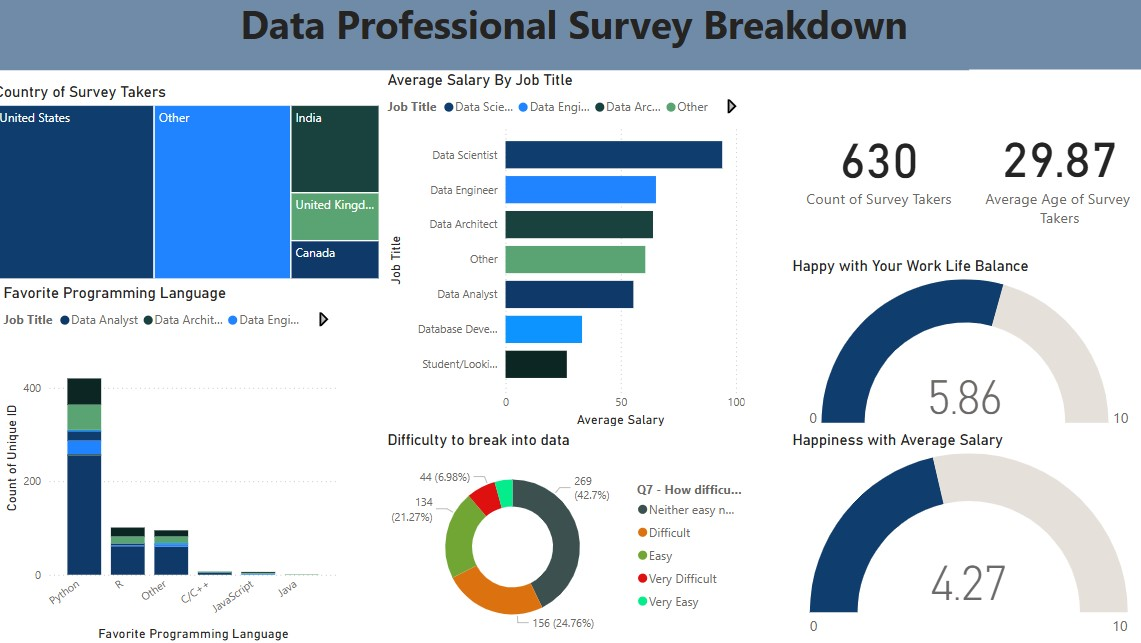

The dashboard page shown, as its layout file describes it:
{"tool":"powerbi","page":{"name":"Page 1","canvas":[1280,720],"ordinal":0},"visuals":[{"type":"textbox","box":[9.4,0,1269.9,85],"z":0},{"type":"card","fields":{"Values":["Count(Data Professional Survey.Unique ID)"]},"box":[880.6,86.9,200.3,204.1],"z":1000},{"type":"card","fields":{"Values":["Avg(Data Professional Survey.Q10 - Current Age)"]},"box":[1081,85,198.4,206],"z":2000},{"type":"barChart","title":"Average Salary By Job Title","fields":{"Category":["Data Professional Survey.Q1 - Which Title Best Fits your Current Role?.1"],"Y":["Avg(Data Professional Survey.Average Salary)"],"Series":["Data Professional Survey.Q1 - Which Title Best Fits your Current Role?.1"]},"box":[434.6,86.9,404.4,396.9],"z":3000},{"type":"columnChart","title":"Favorite Programming Language","fields":{"Category":["Data Professional Survey.Q5 - Favorite Programming Language.1"],"Y":["CountNonNull(Data Professional Survey.Unique ID)"],"Series":["Data Professional Survey.Q1 - Which Title Best Fits your Current Role?.1"]},"box":[9.4,321.3,378,398.7],"z":4000},{"type":"gauge","title":"Happy with Your Work Life Balance","fields":{"Y":["Avg(Data Professional Survey.Q6 - How Happy are you in your Current Position with the following? (Coworkers))"],"MinValue":["Min(Data Professional Survey.Q6 - How Happy are you in your Current Position with the following? (Coworkers))"],"MaxValue":["Max(Data Professional Survey.Q6 - How Happy are you in your Current Position with the following? (Coworkers))"]},"box":[880.6,291,398.7,192.8],"z":5000},{"type":"gauge","title":"Happiness with Average Salary","fields":{"Y":["Avg(Data Professional Survey.Q6 - How Happy are you in your Current Position with the following? (Salary))"],"MinValue":["Min(Data Professional Survey.Q6 - How Happy are you in your Current Position with the following? (Salary))"],"MaxValue":["Max(Data Professional Survey.Q6 - How Happy are you in your Current Position with the following? (Salary))"]},"box":[880.6,483.8,398.7,236.2],"z":6000},{"type":"donutChart","title":"Difficulty to break into data","fields":{"Category":["Data Professional Survey.Q7 - How difficult was it for you to break into Data?"],"Y":["CountNonNull(Data Professional Survey.Q7 - How difficult was it for you to break into Data?)"]},"box":[434.6,483.8,404.4,236.2],"z":6001},{"type":"treemap","title":"Country of Survey Takers","fields":{"Group":["Data Professional Survey.Q11 - Which Country do you live in?.1"],"Values":["CountNonNull(Data Professional Survey.Q11 - Which Country do you live in?.1)"]},"box":[0,100.2,434.6,221.1],"z":6002}]}

Visuals, with their boxes in screenshot pixels (x1, y1, x2, y2), scaled from the page's 1280x720 canvas onto the 1141x643 screenshot:
textbox: <bbox>8, 0, 1140, 76</bbox>
card - Count(Data Professional Survey.Unique ID): <bbox>785, 78, 964, 260</bbox>
card - Avg(Data Professional Survey.Q10 - Current Age): <bbox>964, 76, 1140, 260</bbox>
"Average Salary By Job Title" barChart: <bbox>387, 78, 748, 432</bbox>
"Favorite Programming Language" columnChart: <bbox>8, 287, 345, 642</bbox>
"Happy with Your Work Life Balance" gauge: <bbox>785, 260, 1140, 432</bbox>
"Happiness with Average Salary" gauge: <bbox>785, 432, 1140, 642</bbox>
"Difficulty to break into data" donutChart: <bbox>387, 432, 748, 642</bbox>
"Country of Survey Takers" treemap: <bbox>0, 89, 387, 287</bbox>
